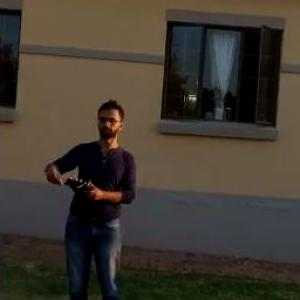follow: (28, 92, 141, 298)
